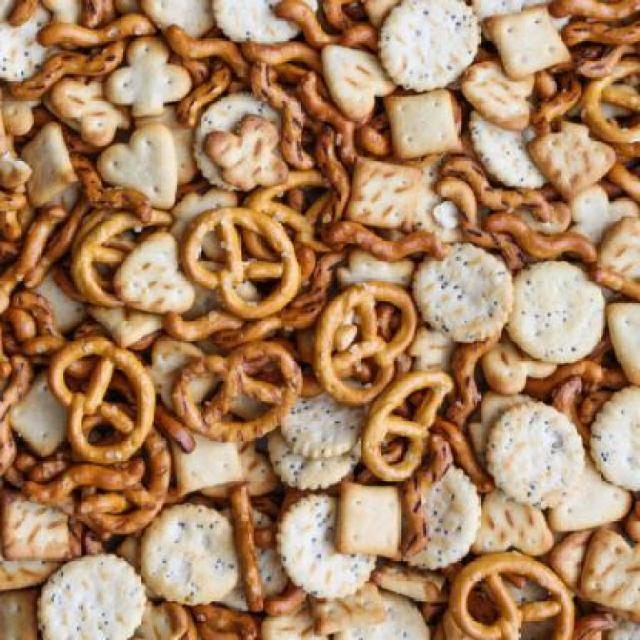Salatini packaged: (5, 0, 637, 638)
